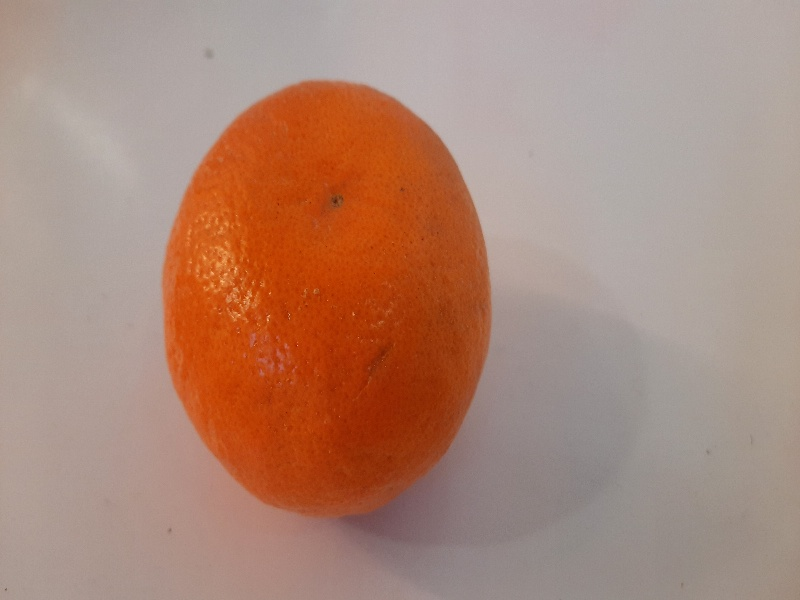fruit: (152, 71, 501, 522)
